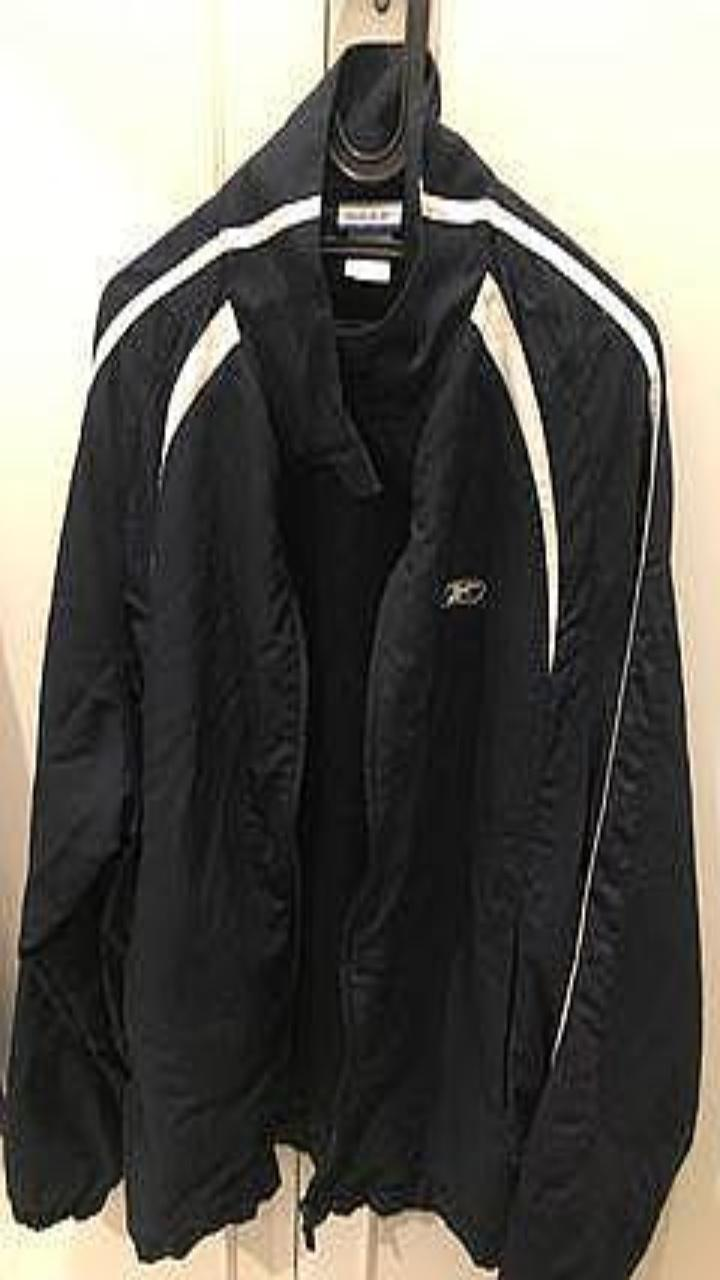Sports_Jacket: (4, 44, 700, 1279)
